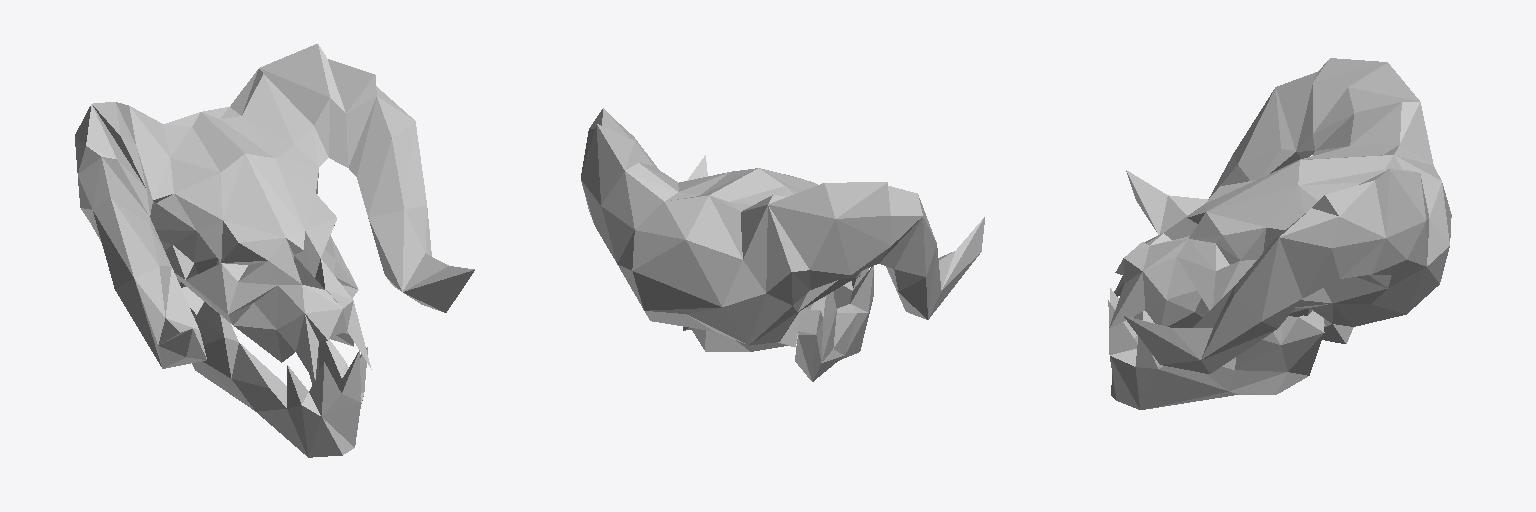
Rendered from Skull_483.obj.
3 views of the same model, side by side, from view 1: azimuth 30°, elevation 25°; view 2: azimuth 150°, elevation 25°; view 3: azimuth 270°, elevation 25° (orthographic).
Parts seen in each view (by area): view 1: DeathClawSKULL; view 2: DeathClawSKULL; view 3: DeathClawSKULL.
Boxes of the visible parts, x1=… form: DeathClawSKULL: x1=75, y1=44, x2=474, y2=457; DeathClawSKULL: x1=581, y1=108, x2=984, y2=381; DeathClawSKULL: x1=1108, y1=58, x2=1451, y2=409.
Bounding box in the file's own units: 2.52 × 2.18 × 2.35.